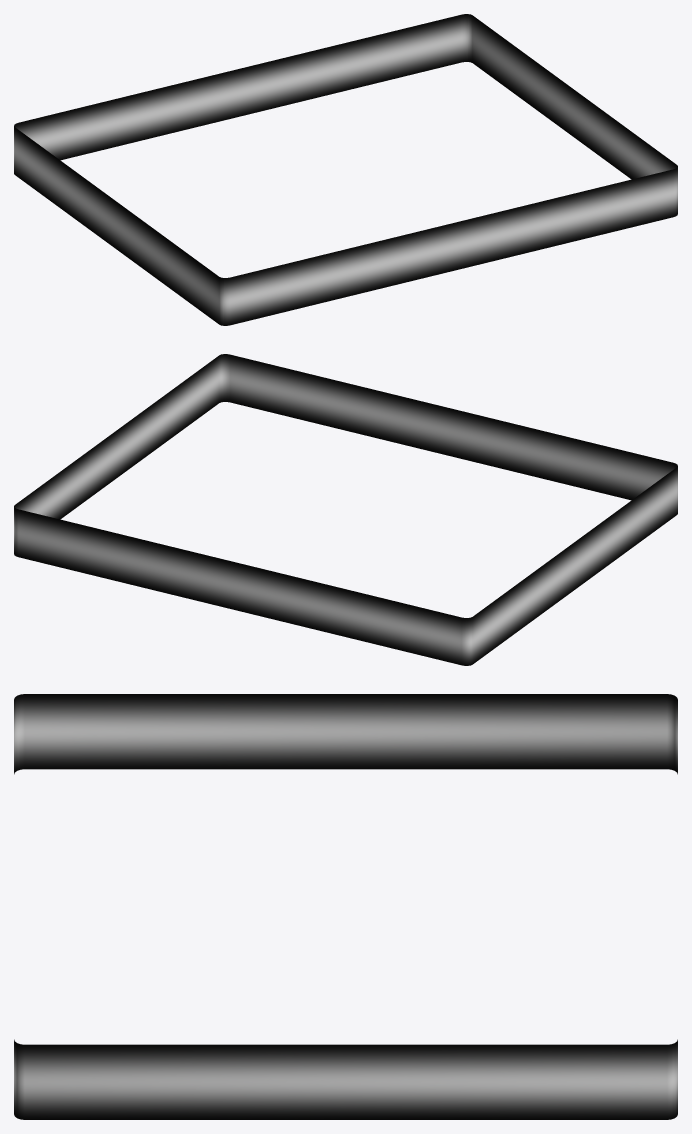
Rendered from Zone.fbx.
3 views of the same model, one above another, from view 1: azimuth 30°, elevation 25°; view 2: azimuth 150°, elevation 25°; view 3: azimuth 270°, elevation 25° (orthographic). The views are drawn at different scales.
Parts seen in each view (by area): view 1: Cube; view 2: Cube; view 3: Cube.
Part boxes in pixels (bbox=[...]): Cube: bbox=[14, 14, 677, 325]; Cube: bbox=[14, 354, 677, 665]; Cube: bbox=[14, 694, 677, 1119].
Size of the model in its own units: 2000 by 200 by 1600.
